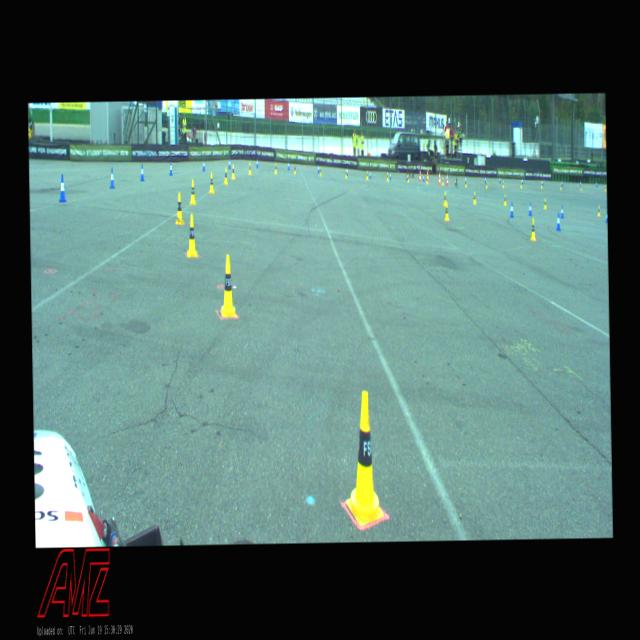blue_cone: (58, 174, 66, 202), (109, 167, 115, 188), (556, 212, 560, 230), (140, 163, 144, 180), (509, 201, 513, 217), (169, 161, 173, 175), (528, 202, 532, 216), (560, 205, 563, 218), (202, 158, 205, 170), (255, 158, 258, 168), (604, 209, 606, 222), (368, 171, 371, 178), (288, 160, 290, 170), (228, 158, 230, 168), (318, 164, 320, 173), (484, 174, 486, 183), (389, 172, 391, 180), (422, 174, 424, 181), (406, 173, 408, 180), (498, 176, 500, 183), (521, 177, 523, 184), (560, 180, 562, 187), (595, 180, 597, 187), (578, 179, 580, 186), (541, 178, 543, 185), (347, 167, 348, 176), (445, 175, 446, 182)
large_orange_cone: (418, 167, 421, 180), (446, 173, 448, 186), (438, 172, 440, 184), (426, 170, 428, 182)
yellow_cone: (344, 390, 383, 526), (220, 254, 237, 317), (186, 214, 197, 256), (174, 192, 183, 224), (190, 178, 196, 204), (530, 218, 536, 240), (208, 172, 214, 194), (444, 203, 448, 221), (224, 167, 228, 184), (472, 192, 476, 204), (443, 192, 446, 206), (248, 161, 251, 174), (274, 162, 277, 174), (543, 198, 546, 209), (503, 194, 506, 205), (597, 205, 600, 216), (232, 163, 234, 179), (294, 163, 296, 174), (345, 168, 347, 178), (386, 172, 388, 181), (366, 170, 368, 179), (319, 167, 321, 176), (442, 177, 444, 186), (407, 173, 409, 182), (520, 179, 522, 188), (580, 182, 582, 191), (426, 175, 428, 183), (464, 179, 466, 187), (485, 180, 487, 188), (502, 180, 504, 188), (559, 182, 561, 190), (604, 184, 606, 192), (540, 181, 542, 188)
